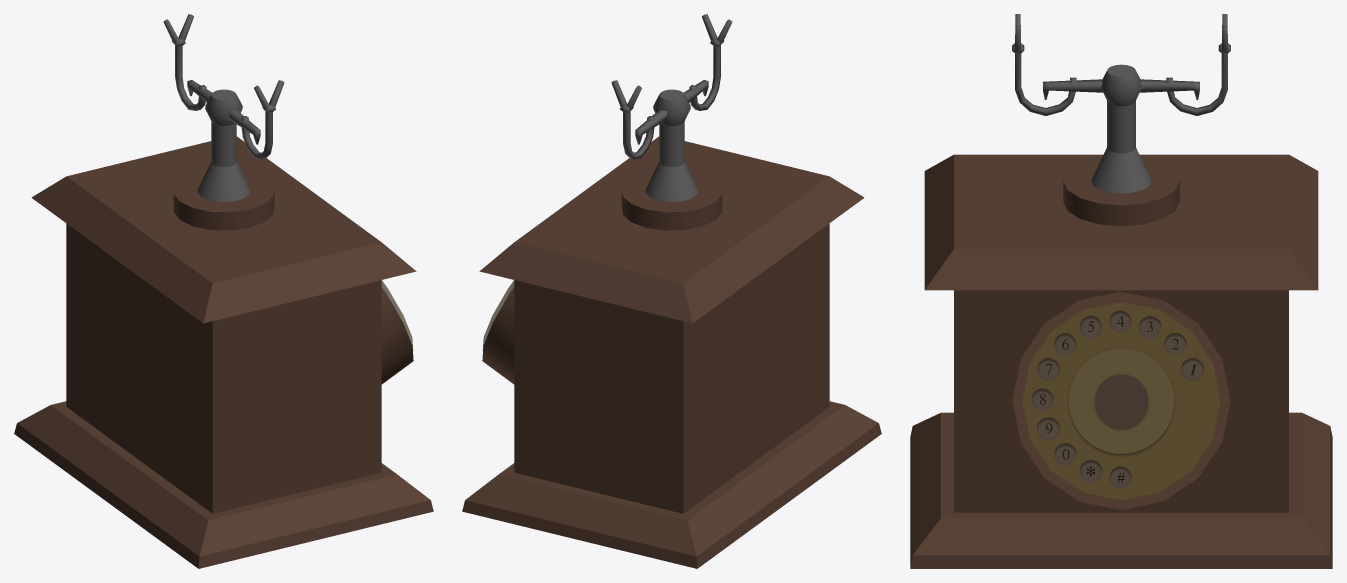
The model's file is S_TelephonePart2.fbx.
3 renders of one model, left to right at view 1: azimuth 30°, elevation 25°; view 2: azimuth 150°, elevation 25°; view 3: azimuth 270°, elevation 25°, orthographic. The views are drawn at different scales.
Parts seen in each view (by area): view 1: S_Telephone; view 2: S_Telephone; view 3: S_Telephone.
Boxes of the visible parts, x1,y1,x2,y2 form: S_Telephone: (14,14,433,568); S_Telephone: (462,14,881,568); S_Telephone: (910,14,1332,568).
Bounding box in the file's own units: 33.81 × 47.77 × 37.84.
